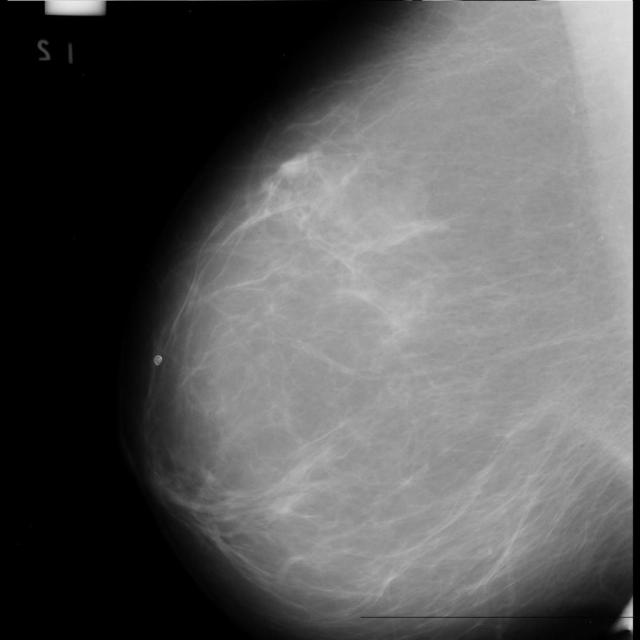tumour: (279, 156, 310, 178)
